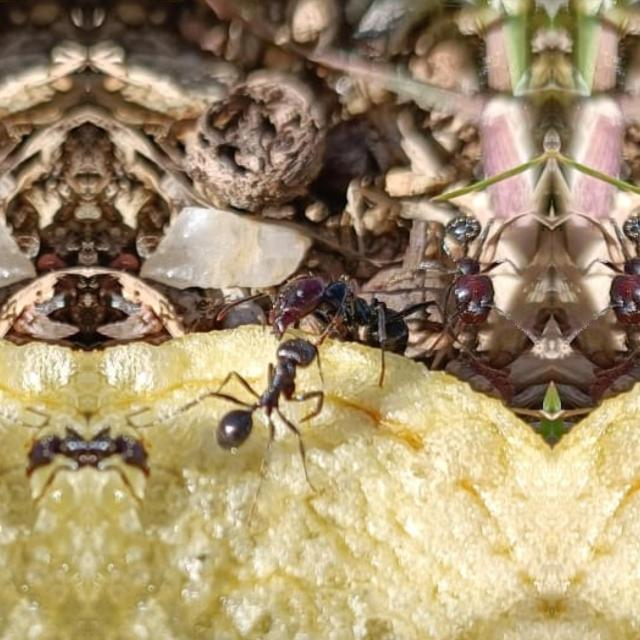Messor: (238, 250, 414, 382), (412, 208, 520, 342), (210, 332, 326, 456), (583, 207, 640, 342), (86, 409, 162, 488), (12, 409, 88, 488)
